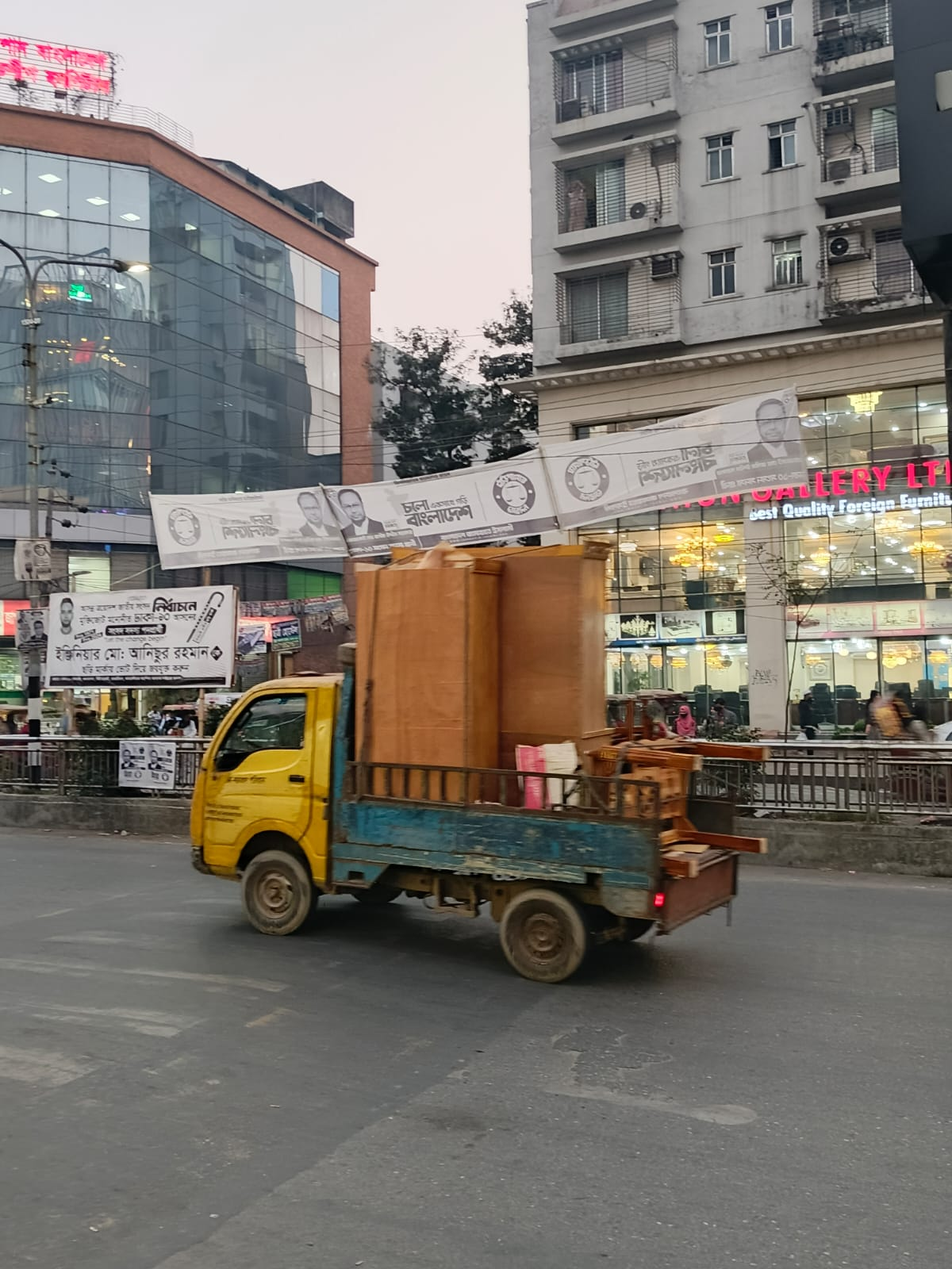Pickup: (167, 525, 762, 996)
